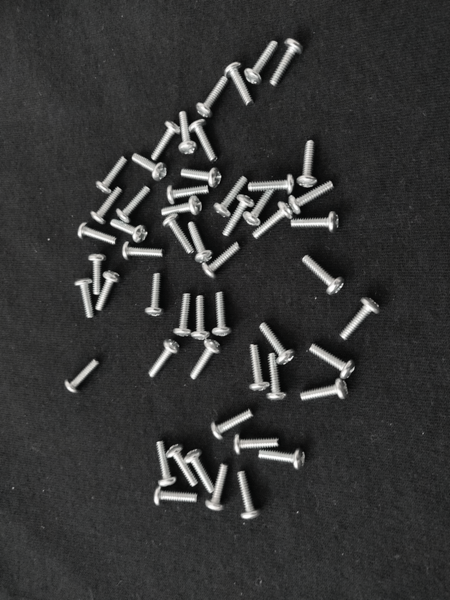shortscrew: (340, 297, 382, 341), (302, 254, 346, 295), (309, 345, 357, 380), (259, 322, 296, 366), (289, 180, 336, 214), (252, 202, 295, 239), (271, 38, 303, 86), (202, 241, 243, 278), (246, 40, 279, 85), (165, 445, 199, 488), (184, 450, 217, 494), (214, 177, 249, 218), (196, 76, 230, 118), (211, 409, 255, 441), (64, 358, 102, 395), (190, 339, 223, 381), (223, 194, 255, 237), (116, 185, 152, 223), (224, 62, 253, 107), (190, 119, 219, 164), (163, 214, 195, 254), (238, 472, 264, 521), (151, 121, 182, 162), (90, 187, 123, 225), (300, 378, 350, 403), (149, 339, 181, 378), (96, 157, 129, 194), (95, 269, 122, 312), (186, 222, 214, 263), (205, 463, 228, 512), (244, 191, 274, 227), (266, 353, 288, 402), (291, 212, 340, 234), (249, 174, 298, 196), (258, 449, 307, 470), (233, 434, 282, 455), (131, 155, 170, 181), (250, 344, 271, 392), (298, 140, 318, 189), (154, 485, 198, 507), (145, 273, 167, 317), (212, 291, 233, 337), (161, 195, 203, 218), (156, 442, 177, 487), (190, 295, 211, 340), (74, 277, 97, 318), (111, 220, 148, 245), (77, 223, 119, 245), (165, 184, 210, 204), (173, 292, 192, 339), (178, 112, 198, 155), (122, 242, 164, 262), (88, 253, 107, 295), (181, 168, 222, 187)
